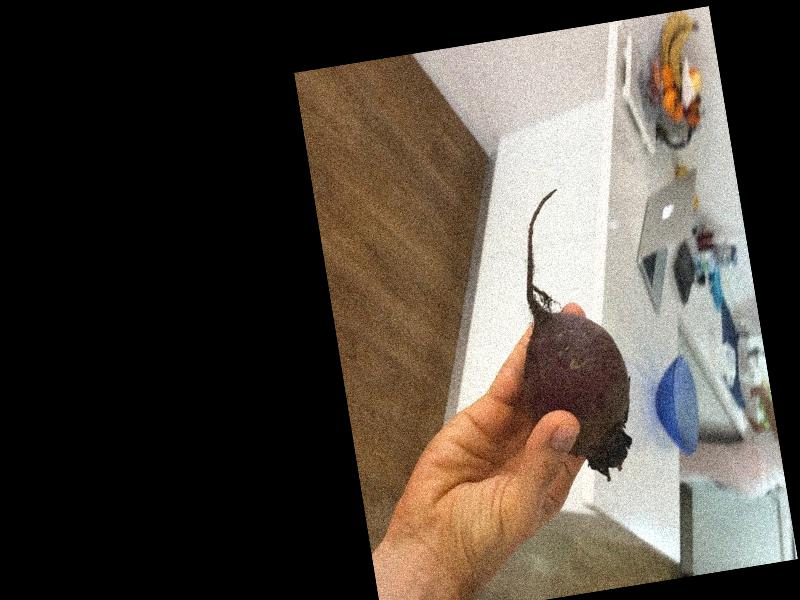Beet: (495, 182, 643, 489)
